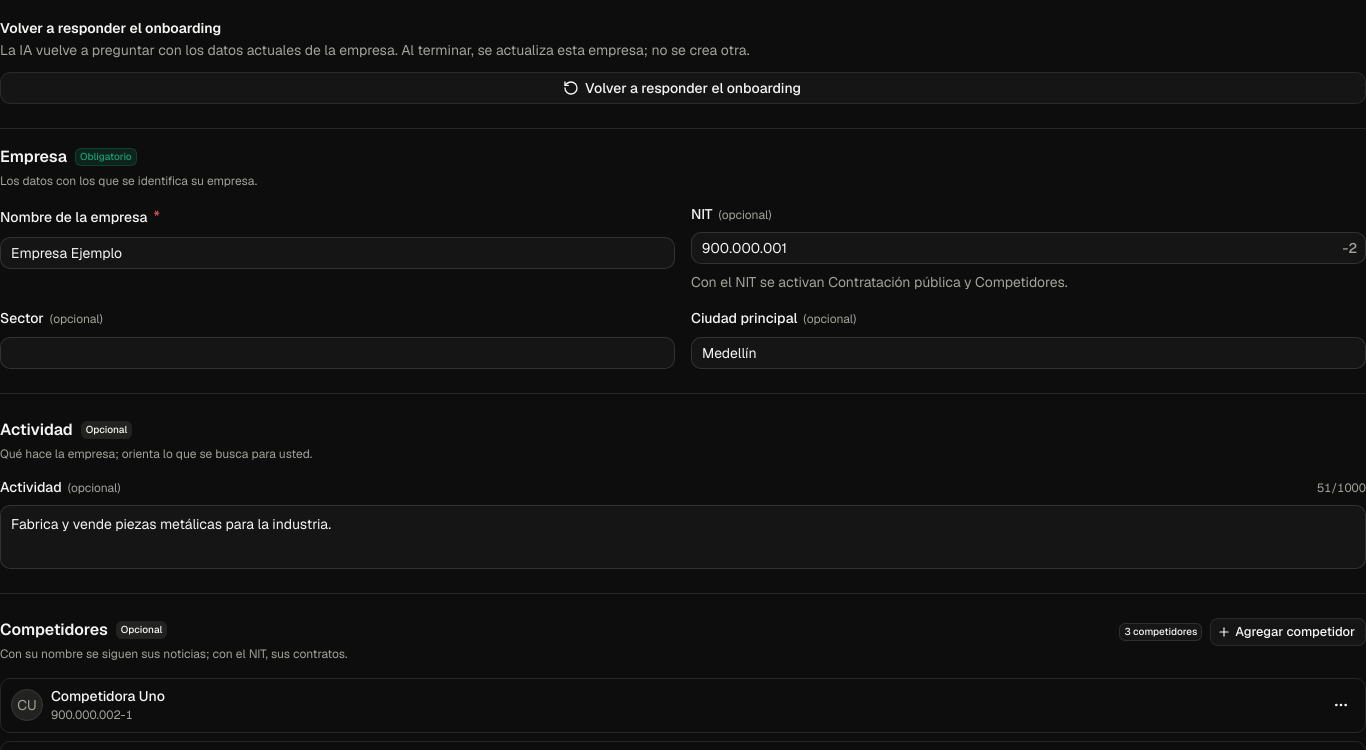
EmpresaTab › saves the edits to the same company and confirms
This screenshot has width=1366, height=750.
Replace the text in the field labelled "Nombre de la empresa" with "Empresa Renovada" at (338, 253), box left=0, top=237, right=675, bottom=269
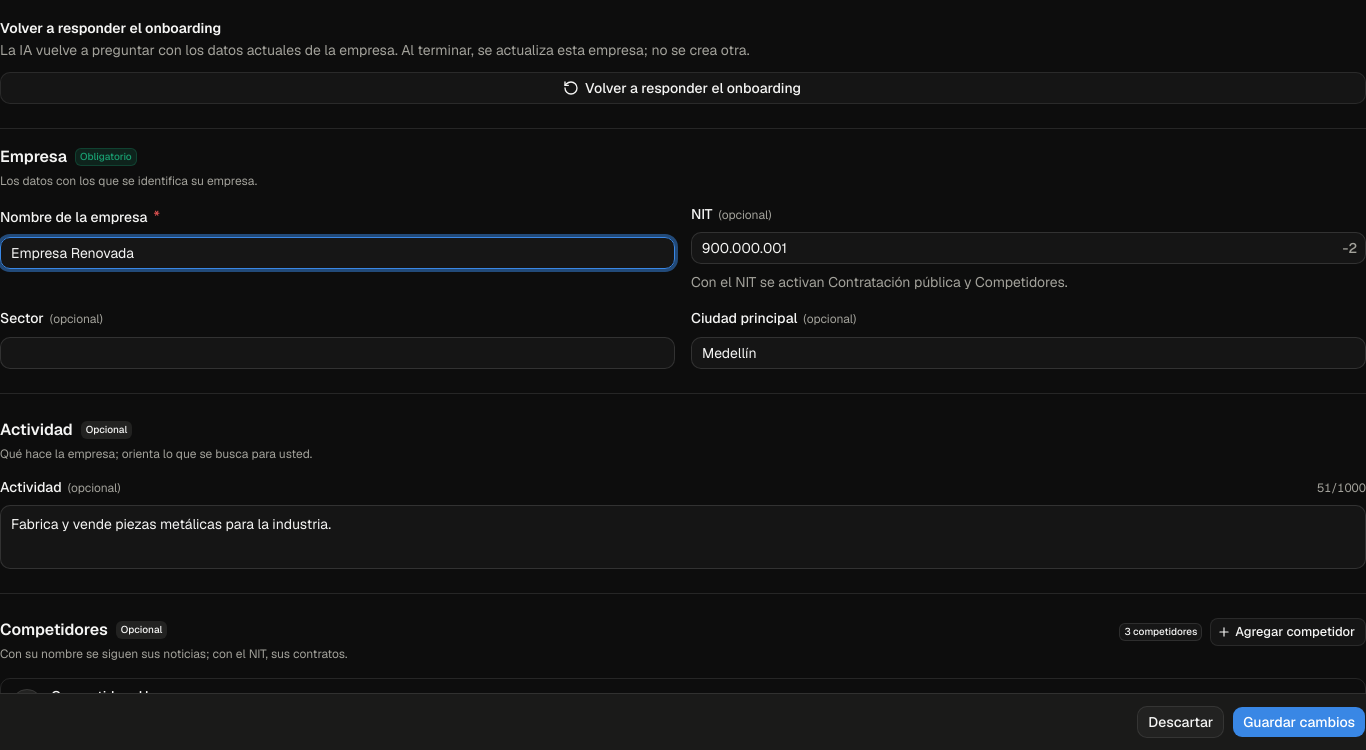
Click the button "Guardar cambios" at (1299, 722), box left=1232, top=706, right=1365, bottom=738
(page scrolled)
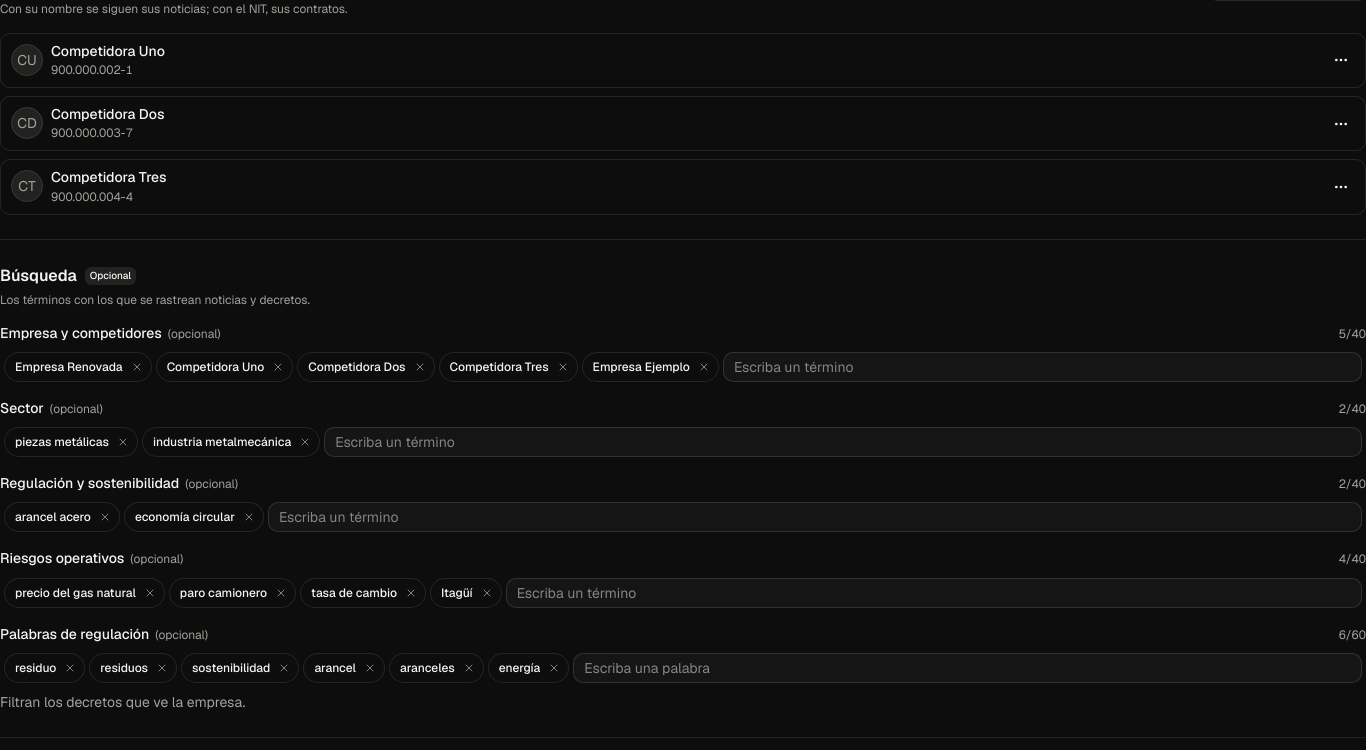
Result: the element showing "Empresa Renovada" is shown at left=4, top=352, right=152, bottom=382
